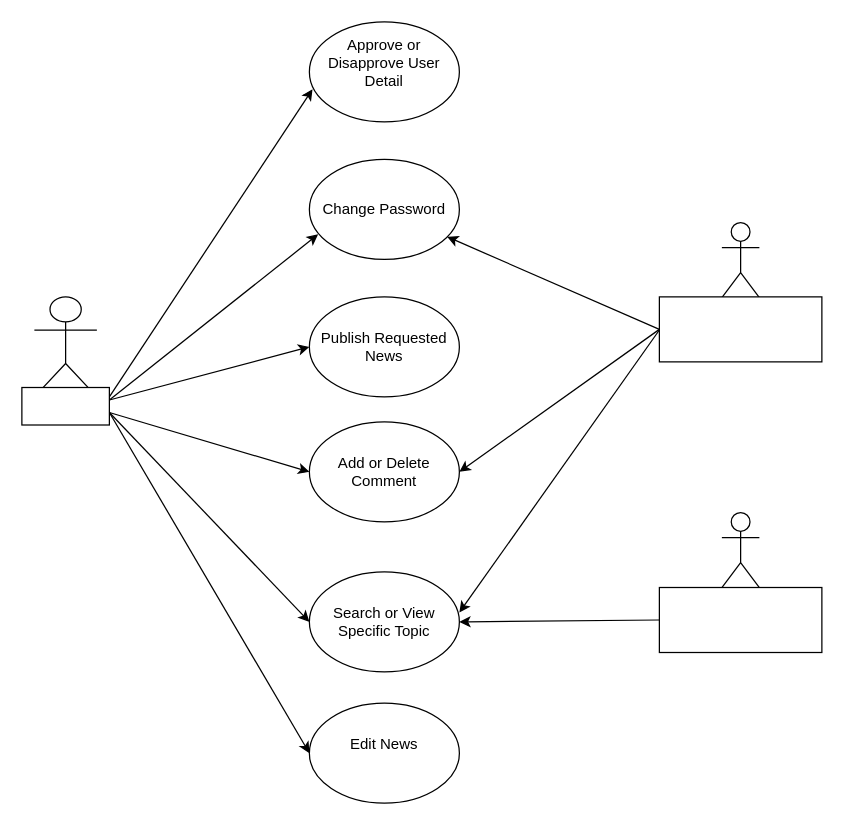
The diagram is 844 pixels wide and 825 high, and some of its shapes have lost their labels. Each missing label, with the centre of its shape:
Admin: point (65, 405)
Registered User: point (740, 329)
Unregistered User: point (740, 619)
